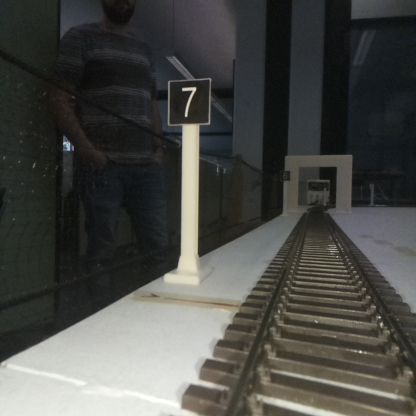black-info-7: (169, 81, 209, 281)
